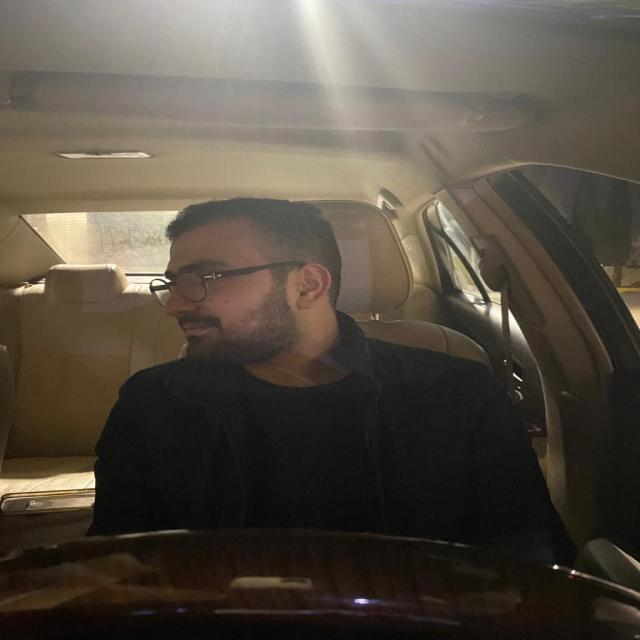LeftRight: (154, 211, 348, 362)
